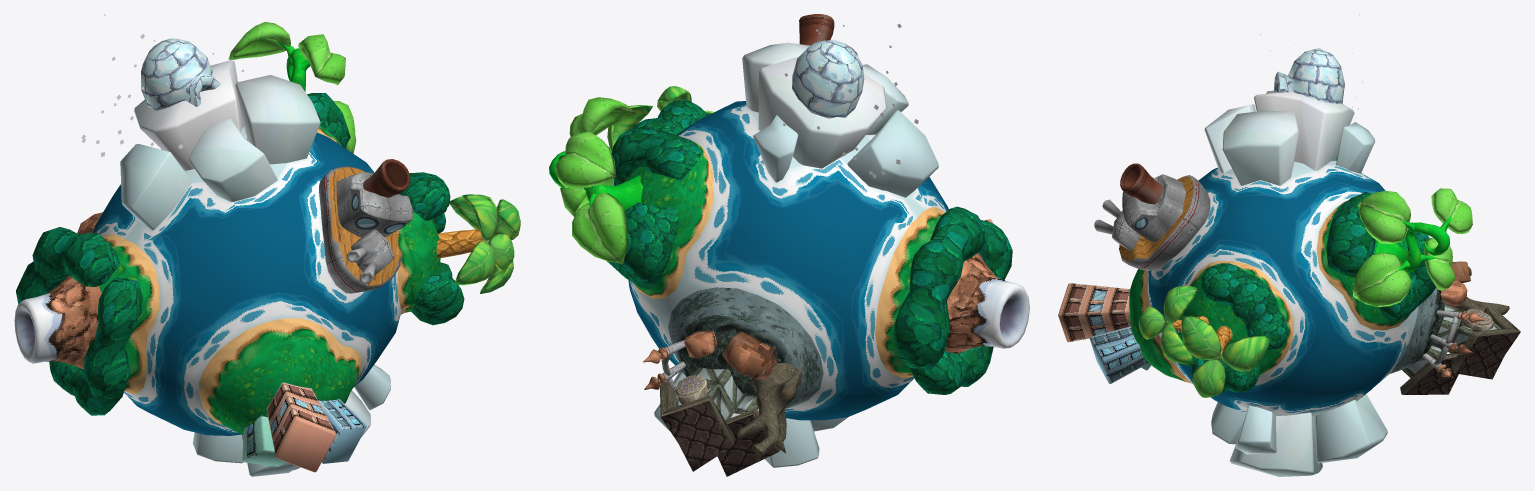
File: Worms3D_Planet.obj
3 views of the same model, side by side, from view 1: azimuth 30°, elevation 25°; view 2: azimuth 150°, elevation 25°; view 3: azimuth 270°, elevation 25° (orthographic). The views are drawn at different scales.
Visible parts, largest first — view 1: DrawCall_26, DrawCall_1, DrawCall_30, DrawCall_28, DrawCall_29, DrawCall_24, DrawCall_17, DrawCall_19, DrawCall_16, DrawCall_14, DrawCall_3, DrawCall_2 (+7 smaller); view 2: DrawCall_26, DrawCall_30, DrawCall_1, DrawCall_14, DrawCall_28, DrawCall_8, DrawCall_16, DrawCall_5, DrawCall_3, DrawCall_7, DrawCall_9, DrawCall_29 (+9 smaller); view 3: DrawCall_26, DrawCall_1, DrawCall_30, DrawCall_14, DrawCall_17, DrawCall_24, DrawCall_28, DrawCall_29, DrawCall_19, DrawCall_16, DrawCall_5, DrawCall_21 (+9 smaller).
Boxes of the visible parts, bbox=[...] form: DrawCall_26: bbox=[93, 127, 401, 435]; DrawCall_1: bbox=[120, 60, 390, 476]; DrawCall_30: bbox=[16, 93, 464, 415]; DrawCall_28: bbox=[103, 126, 414, 431]; DrawCall_29: bbox=[99, 211, 440, 434]; DrawCall_24: bbox=[319, 166, 413, 293]; DrawCall_17: bbox=[449, 194, 520, 293]; DrawCall_19: bbox=[266, 382, 336, 472]; DrawCall_16: bbox=[141, 38, 220, 110]; DrawCall_14: bbox=[228, 21, 356, 153]; DrawCall_3: bbox=[14, 293, 66, 363]; DrawCall_2: bbox=[47, 275, 101, 368]; DrawCall_26: bbox=[628, 101, 948, 420]; DrawCall_30: bbox=[607, 99, 1012, 394]; DrawCall_1: bbox=[654, 42, 938, 467]; DrawCall_14: bbox=[555, 97, 636, 263]; DrawCall_28: bbox=[633, 129, 944, 378]; DrawCall_8: bbox=[668, 287, 823, 408]; DrawCall_16: bbox=[792, 40, 864, 118]; DrawCall_5: bbox=[661, 402, 777, 476]; DrawCall_3: bbox=[969, 276, 1029, 348]; DrawCall_7: bbox=[675, 315, 797, 405]; DrawCall_9: bbox=[643, 330, 776, 389]; DrawCall_29: bbox=[625, 154, 702, 243]; DrawCall_26: bbox=[1147, 160, 1418, 416]; DrawCall_1: bbox=[1204, 90, 1387, 476]; DrawCall_30: bbox=[1178, 156, 1436, 394]; DrawCall_14: bbox=[1353, 188, 1472, 306]; DrawCall_17: bbox=[1138, 286, 1271, 397]; DrawCall_24: bbox=[1094, 174, 1210, 270]; DrawCall_28: bbox=[1138, 200, 1409, 383]; DrawCall_29: bbox=[1129, 237, 1409, 378]; DrawCall_19: bbox=[1058, 283, 1130, 342]; DrawCall_16: bbox=[1273, 48, 1344, 103]; DrawCall_5: bbox=[1404, 332, 1520, 394]; DrawCall_21: bbox=[1089, 326, 1148, 383].
Size of what is drawn, in the model's own units: 20.48 by 19.59 by 20.73.
Materials: 31 (30 with a texture image).
